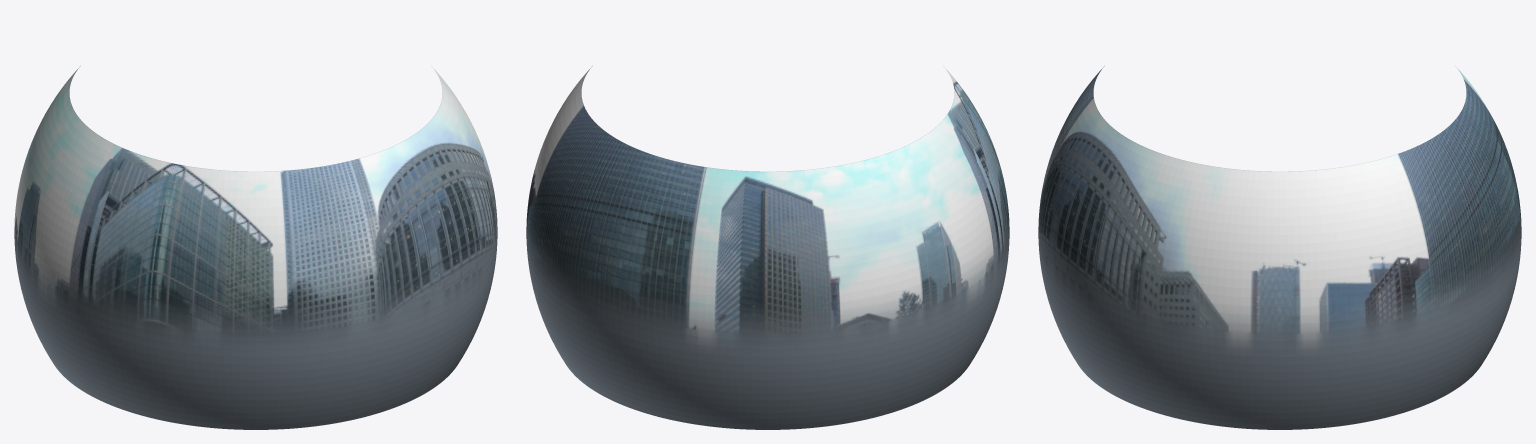
Rendered from office-light.4da072be.glb.
3 views of the same model, side by side, from view 1: azimuth 30°, elevation 25°; view 2: azimuth 150°, elevation 25°; view 3: azimuth 270°, elevation 25° (orthographic).
Parts seen in each view (by area): view 1: exterior_city; view 2: exterior_city; view 3: exterior_city.
Part boxes in pixels (box(x1,y1,x2,y2)): exterior_city: box(14, 66, 497, 429); exterior_city: box(526, 66, 1009, 429); exterior_city: box(1038, 66, 1521, 429).
Bounding box in the file's own units: 800 × 454 × 800.
Materials: 81 (39 with a texture image).
